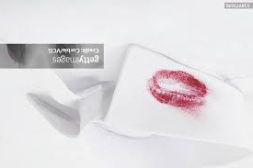lipstick: (150, 64, 211, 117)
